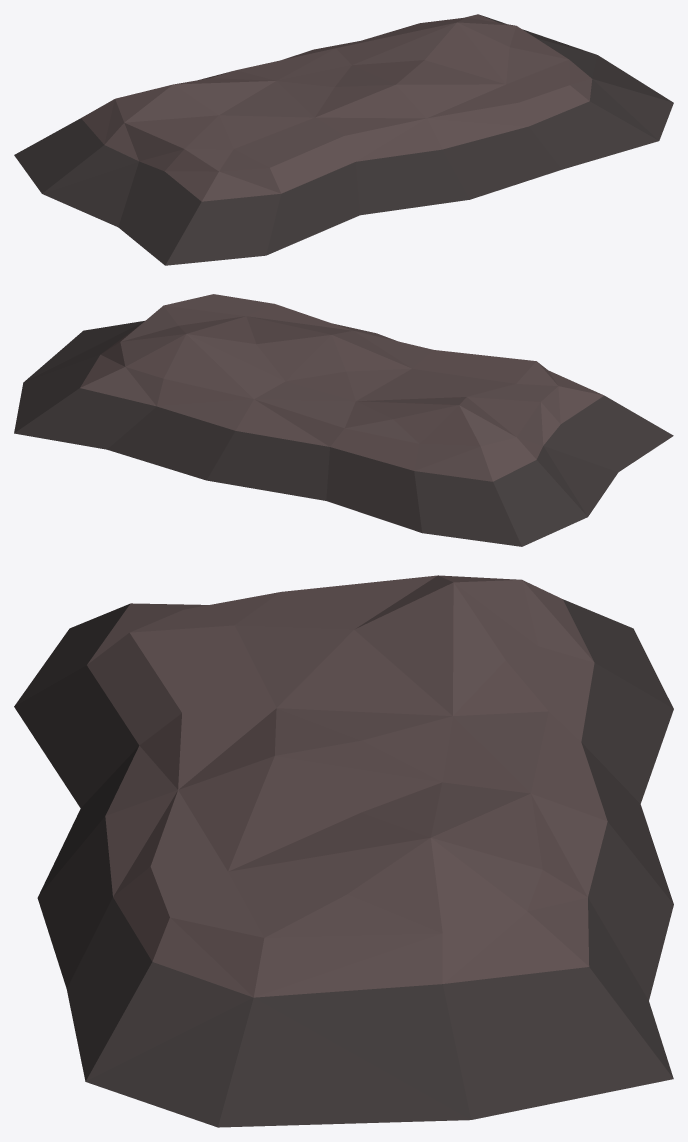
Rendered from TB_D_Env_Mound_Big_C.FBX.
The picture shows the model from 3 angles, top to bottom: view 1: azimuth 30°, elevation 25°; view 2: azimuth 150°, elevation 25°; view 3: azimuth 270°, elevation 25°; orthographic projection. The views are drawn at different scales.
Parts seen in each view (by area): view 1: TB_D_Env_Mound_Big_C; view 2: TB_D_Env_Mound_Big_C; view 3: TB_D_Env_Mound_Big_C.
Boxes of the visible parts, bbox=[...] form: TB_D_Env_Mound_Big_C: bbox=[14, 14, 673, 265]; TB_D_Env_Mound_Big_C: bbox=[14, 294, 673, 546]; TB_D_Env_Mound_Big_C: bbox=[14, 575, 673, 1127].
Size of the model in its own units: 25.17 by 3.34 by 13.6.
